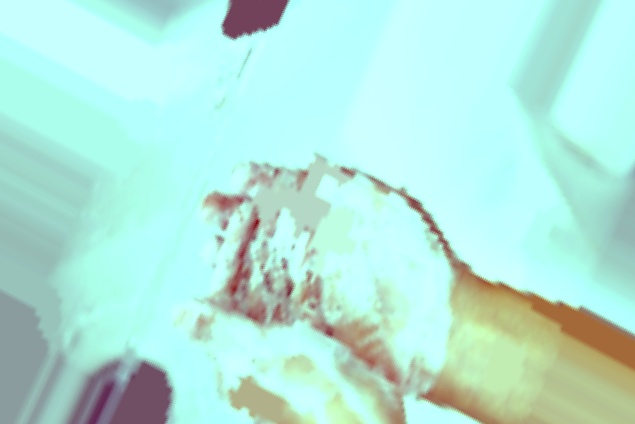washing hand: (55, 0, 571, 423)
